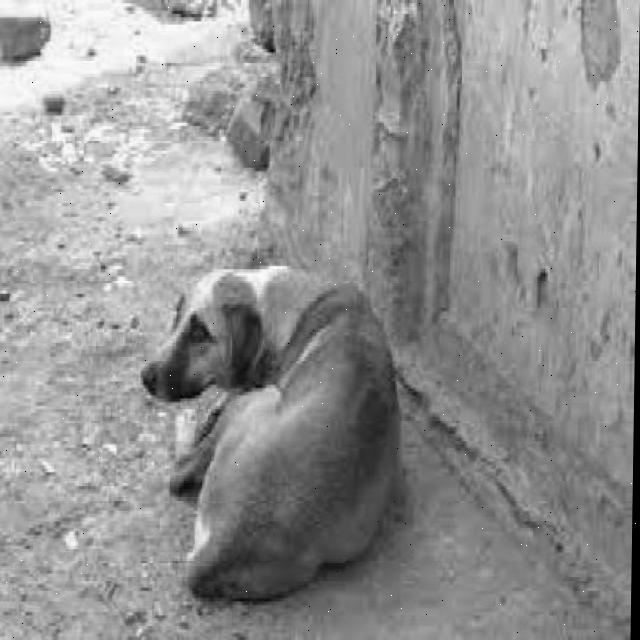Dog: (155, 239, 404, 572)
